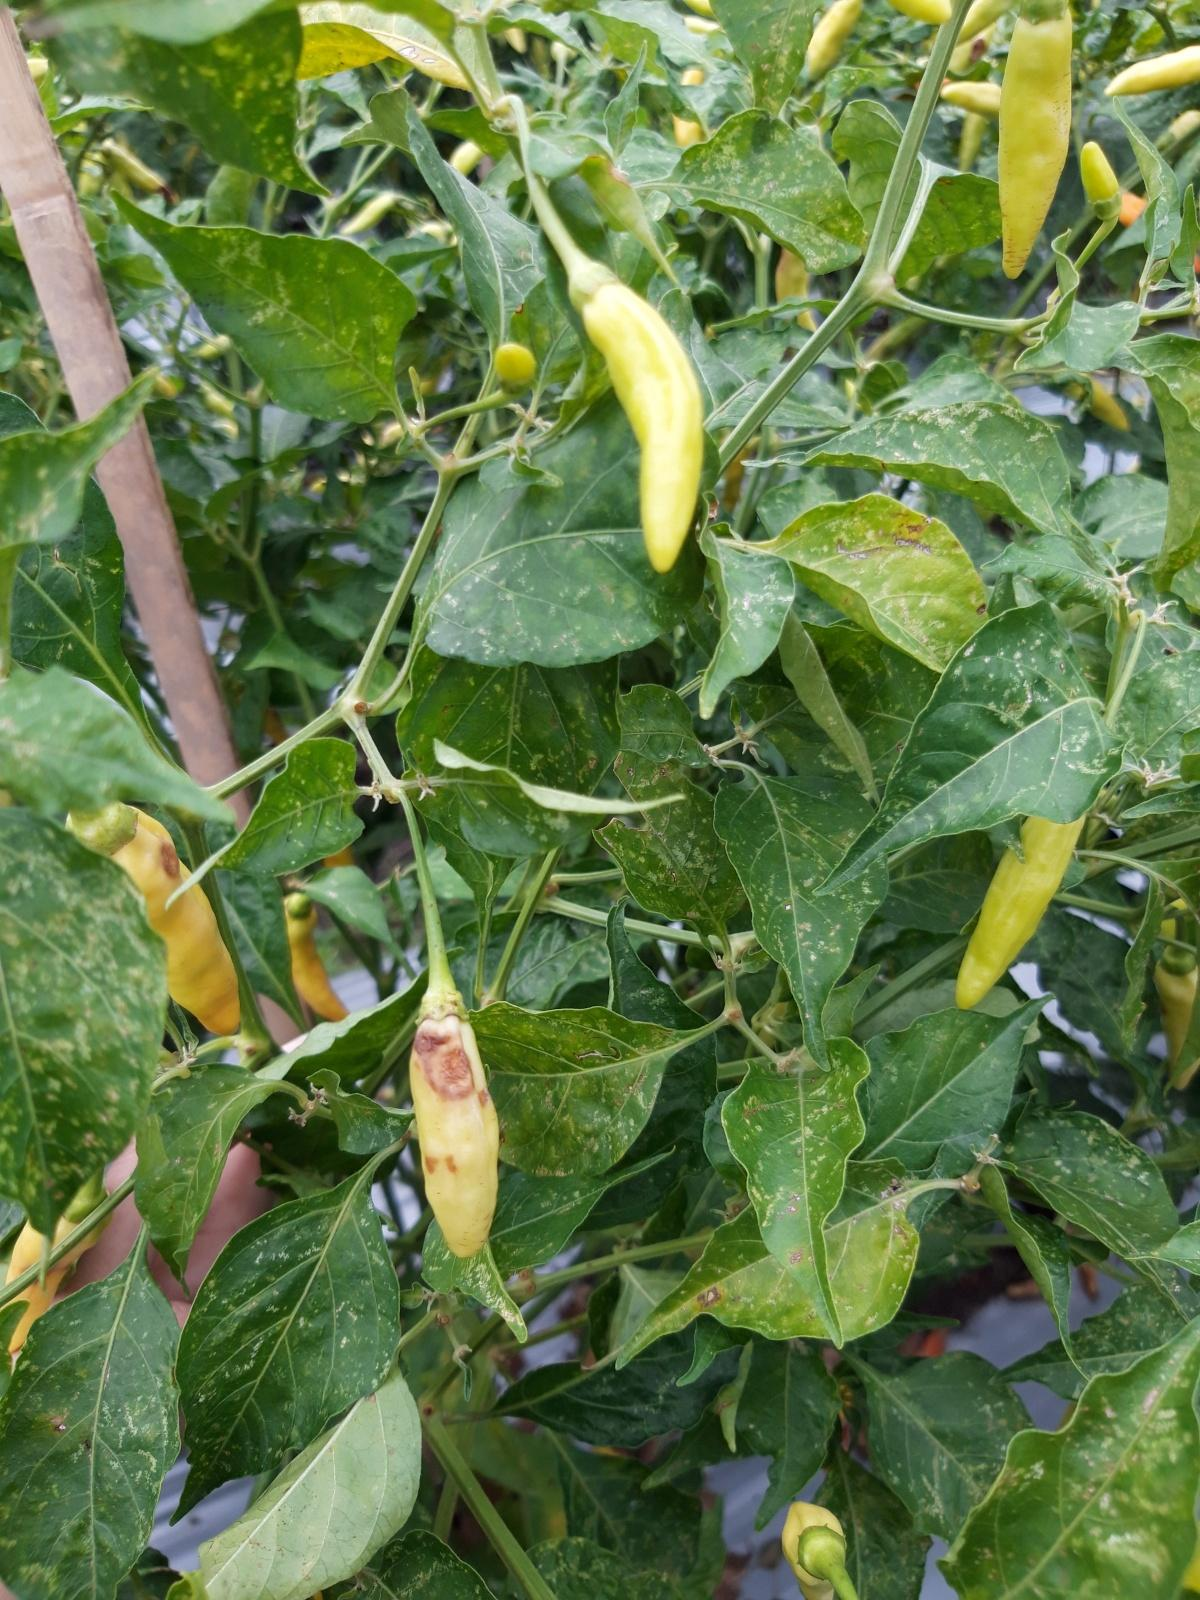cabai_normal: (567, 262, 701, 573), (954, 815, 1087, 1013), (998, 0, 1073, 281), (282, 894, 348, 1020), (1079, 141, 1123, 218), (494, 343, 536, 396)
lalat_buah: (66, 805, 242, 1036), (408, 994, 495, 1259)
